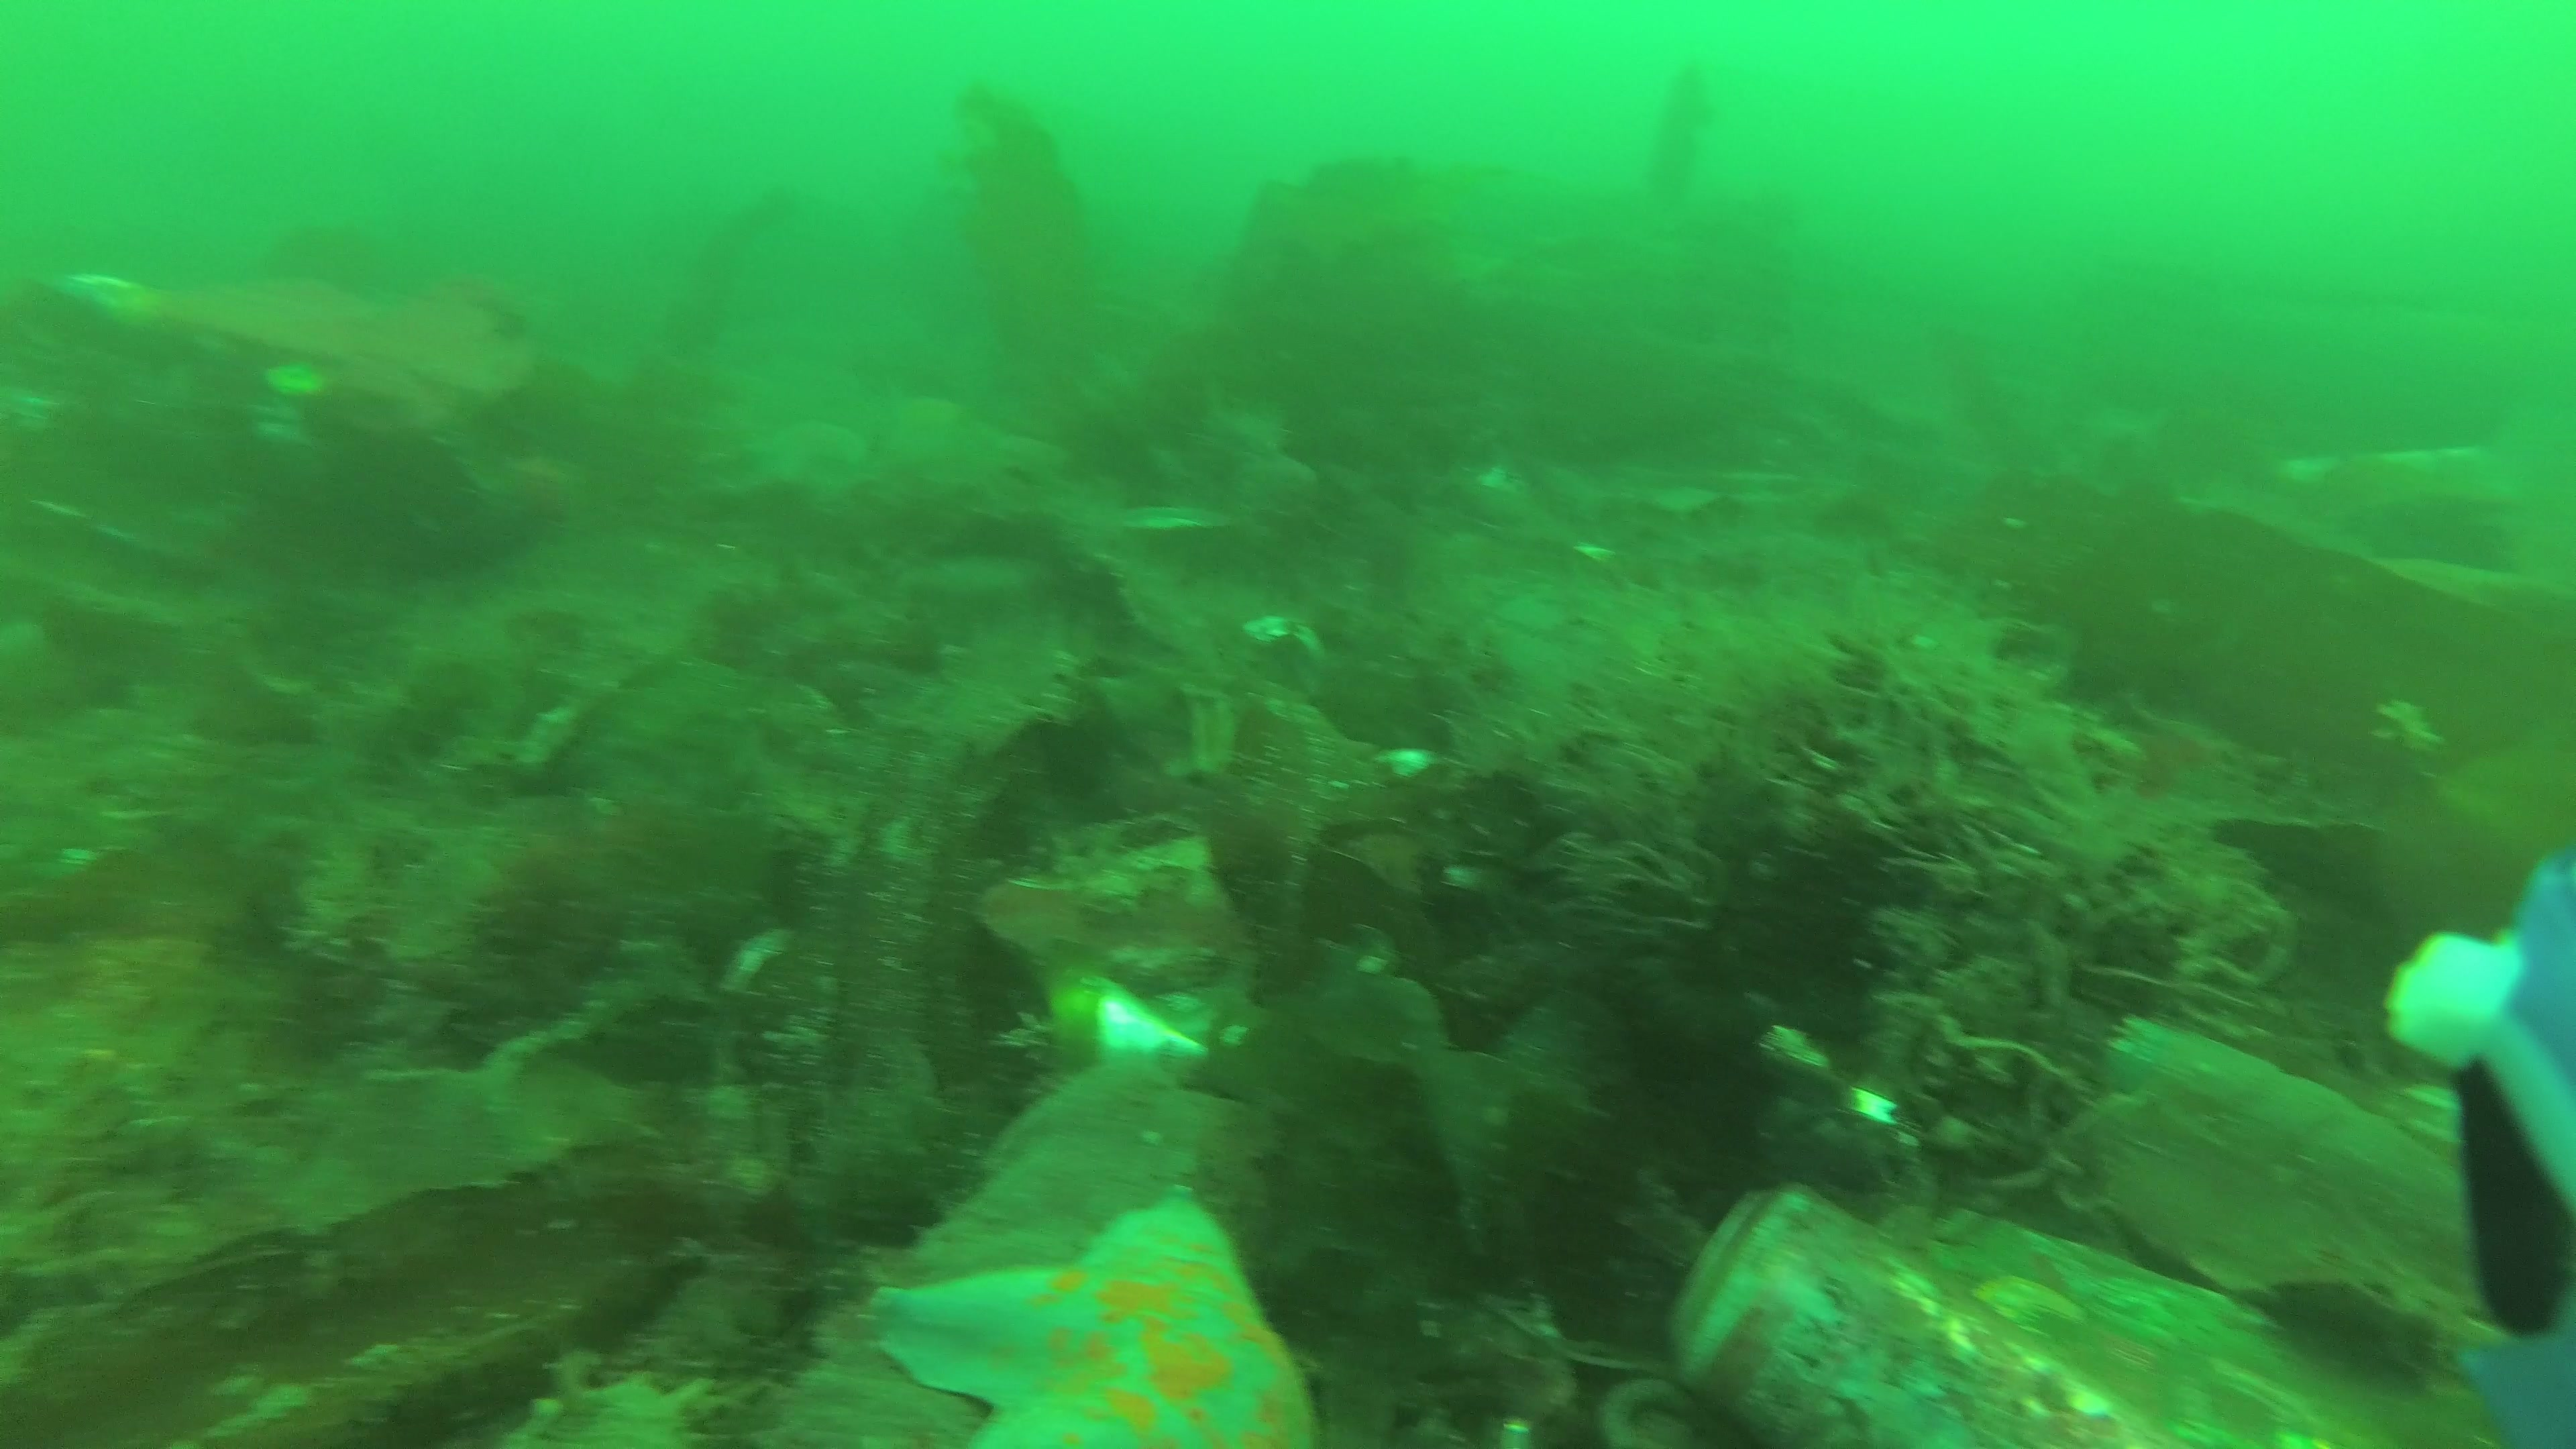starfish: (876, 1187, 1318, 1449)
